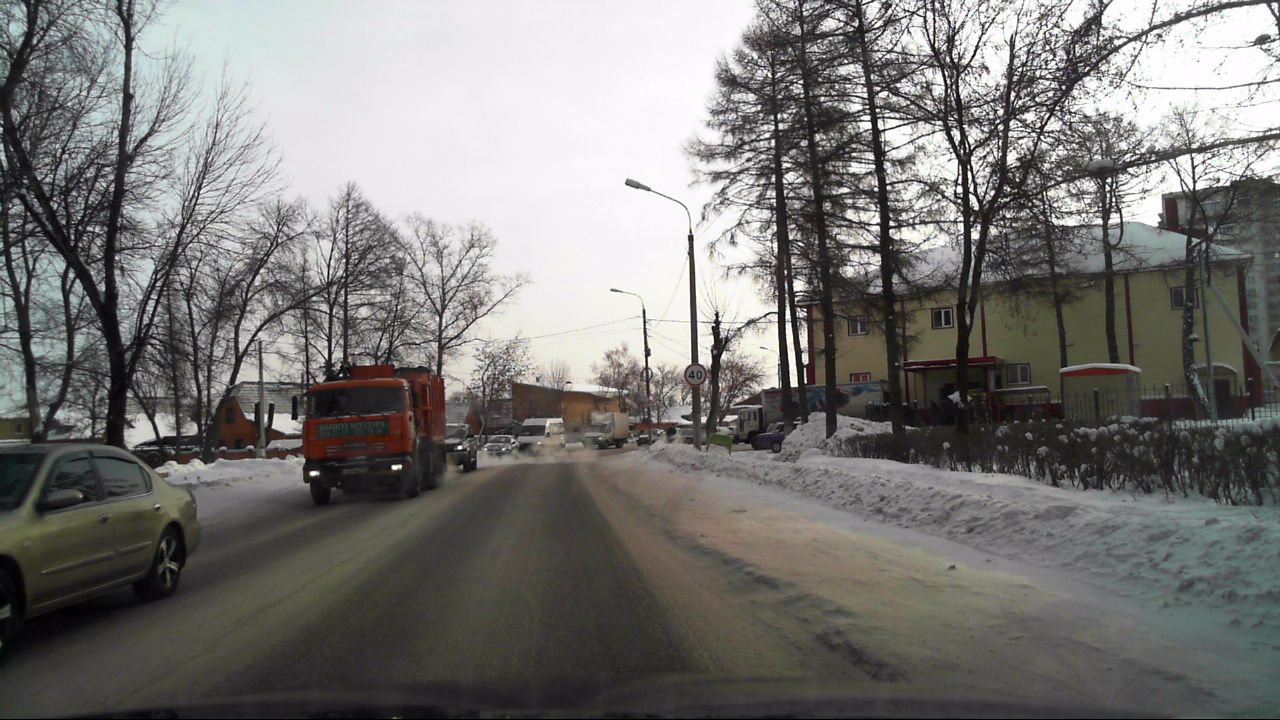speed_warning_40: (685, 364, 706, 386)
